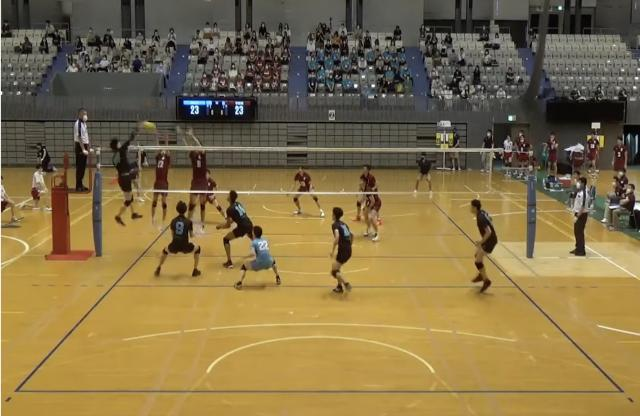spike: (108, 119, 155, 231)
